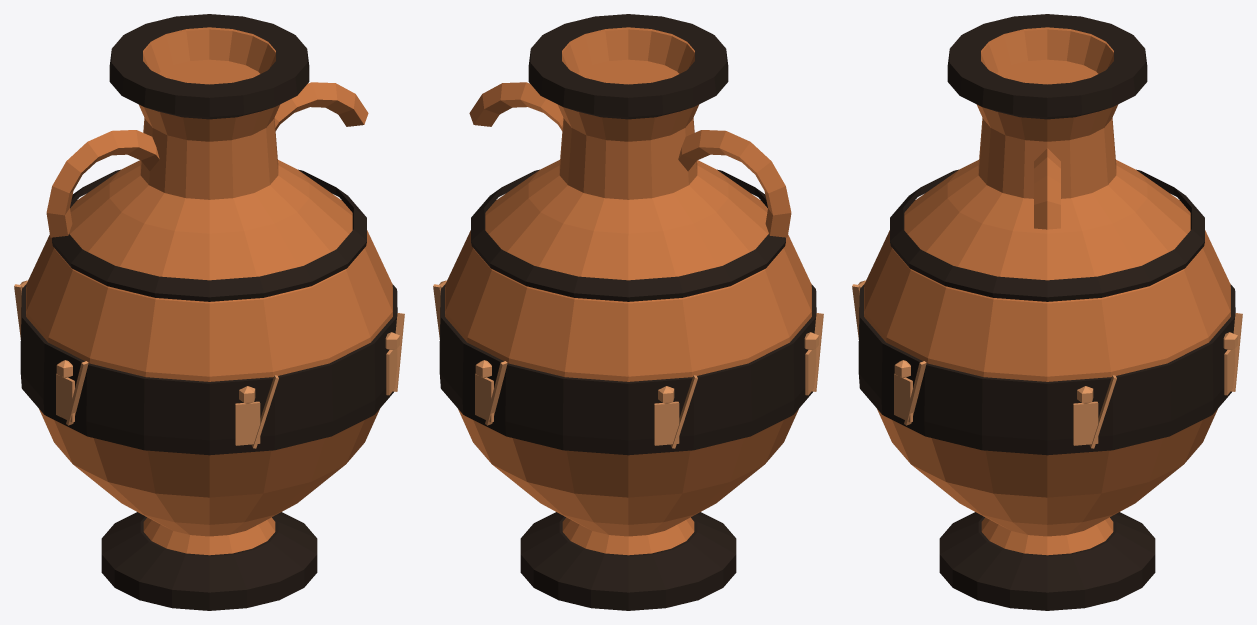
File: anfora.glb
3 views of the same model, side by side, from view 1: azimuth 30°, elevation 25°; view 2: azimuth 150°, elevation 25°; view 3: azimuth 270°, elevation 25° (orthographic).
Parts seen in each view (by area): view 1: anfora; view 2: anfora; view 3: anfora.
Part boxes in pixels (x1,y1,x2,y2): anfora: (14, 14, 404, 610); anfora: (433, 14, 823, 610); anfora: (852, 14, 1242, 610).
Size of the model in its own units: 0.3484 by 0.498 by 0.3467.
